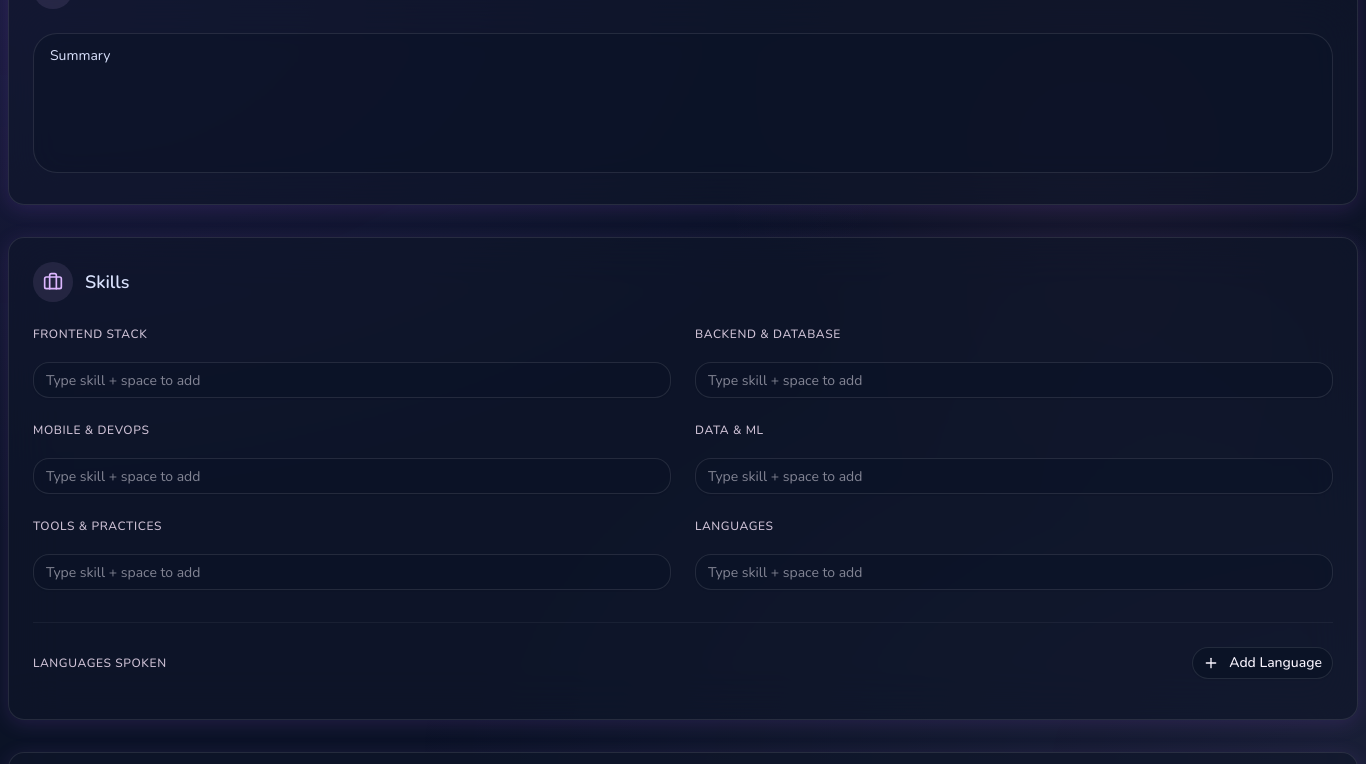
Profile page › adds skill when typing with trailing space
(page scrolled)
Check: the text "Frontend Stack" is shown, box x1=33 y1=326 x2=147 y2=342
Step 1. Type "React " into the field with placeholder "Type skill + space to add" below "Frontend Stack" → point(352, 380), box x1=33 y1=362 x2=671 y2=398
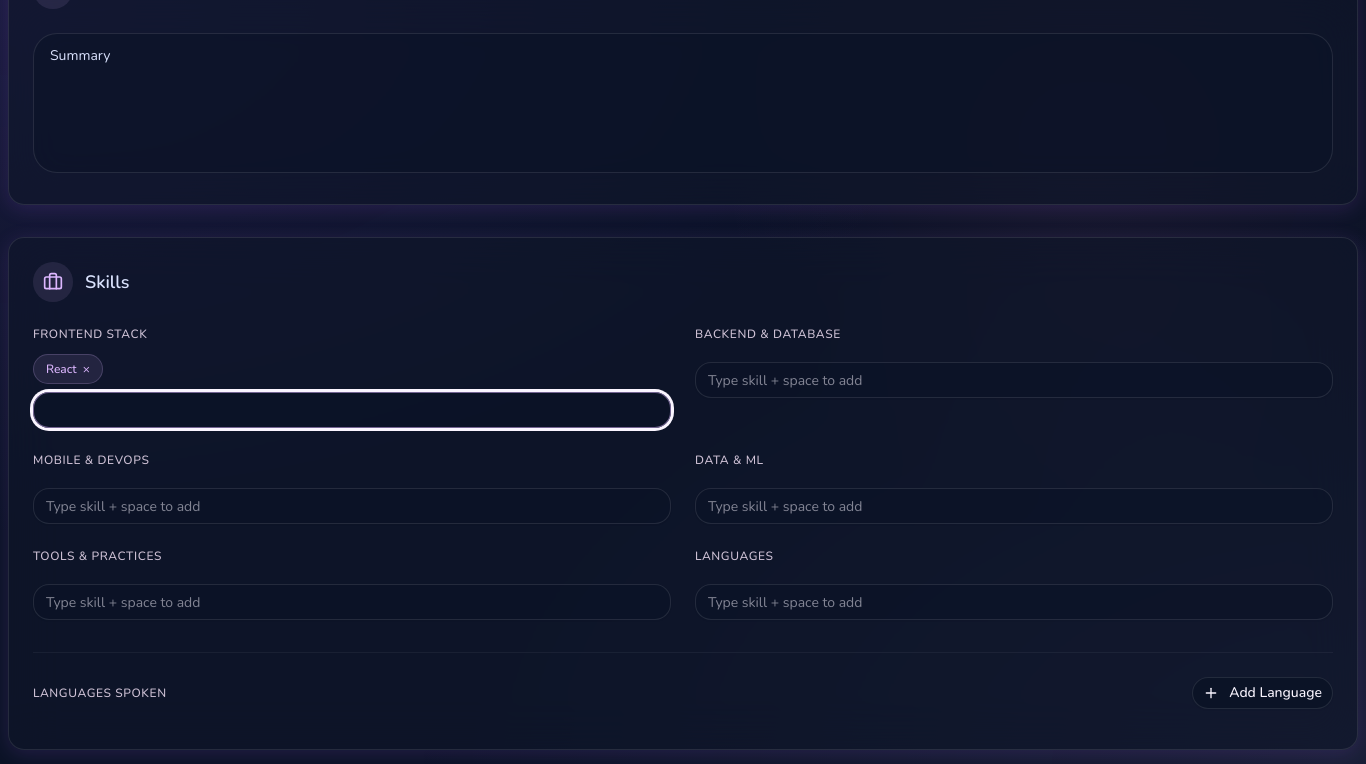
Check: the text "React" is shown, box x1=46 y1=361 x2=77 y2=377
